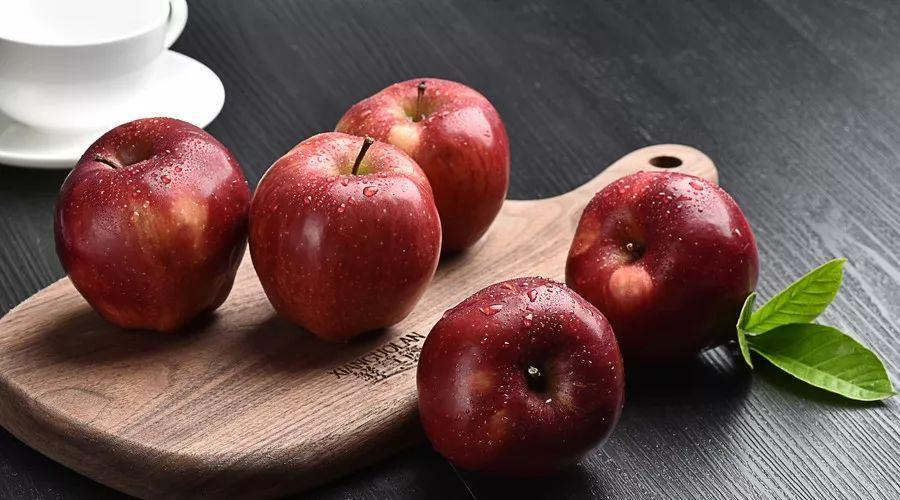apple: (415, 273, 627, 480), (51, 117, 251, 329), (250, 125, 438, 339), (563, 171, 758, 369), (332, 77, 511, 253)
